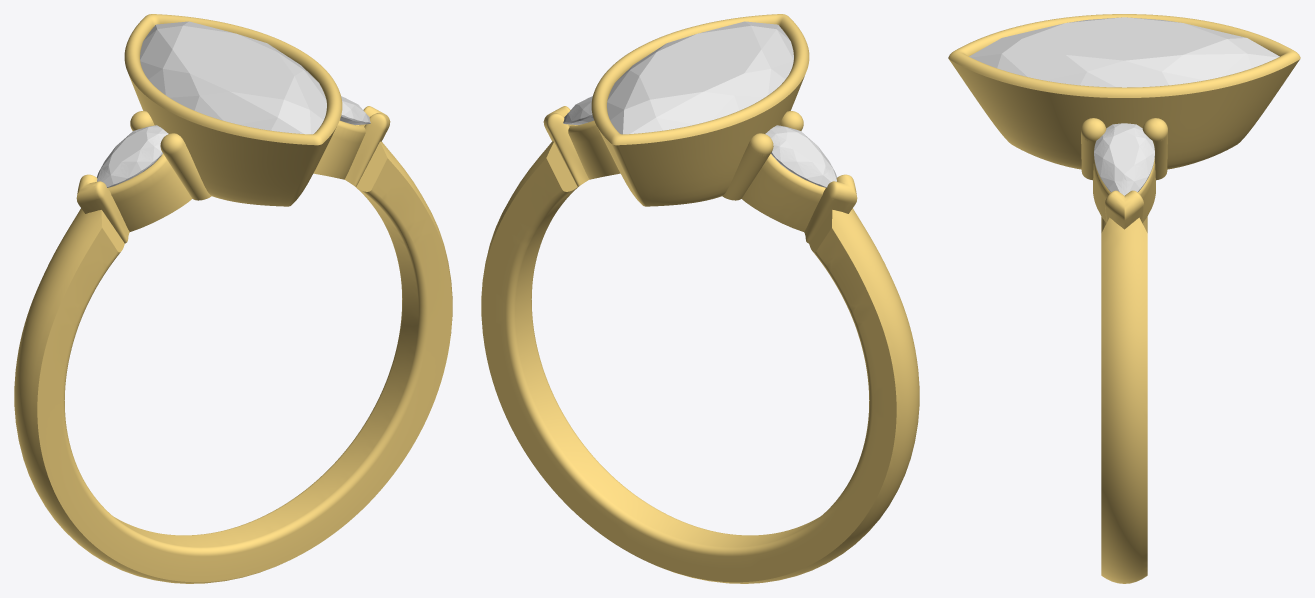
The model's file is JustinYGengV1_blender.glb.
3 renders of one model, left to right at view 1: azimuth 30°, elevation 25°; view 2: azimuth 150°, elevation 25°; view 3: azimuth 270°, elevation 25°, orthographic.
Parts seen in each view (by area): view 1: Justin YG for 3d model, Justin marquise dia for 3d model, Justin pear dia for 3d model.001, Justin pear dia for 3d model; view 2: Justin YG for 3d model, Justin marquise dia for 3d model, Justin pear dia for 3d model.001, Justin pear dia for 3d model; view 3: Justin YG for 3d model, Justin marquise dia for 3d model, Justin pear dia for 3d model.
Part boxes in pixels (bbox=[...]): Justin YG for 3d model: bbox=[14, 14, 452, 583]; Justin marquise dia for 3d model: bbox=[140, 21, 326, 134]; Justin pear dia for 3d model.001: bbox=[97, 125, 168, 187]; Justin pear dia for 3d model: bbox=[340, 96, 370, 124]; Justin YG for 3d model: bbox=[481, 14, 919, 583]; Justin marquise dia for 3d model: bbox=[607, 21, 793, 134]; Justin pear dia for 3d model.001: bbox=[765, 125, 836, 187]; Justin pear dia for 3d model: bbox=[563, 96, 593, 124]; Justin YG for 3d model: bbox=[948, 14, 1300, 583]; Justin marquise dia for 3d model: bbox=[969, 17, 1279, 87]; Justin pear dia for 3d model: bbox=[1094, 123, 1154, 195].
Size of the model in its own units: 20.7 by 23.65 by 14.49.
